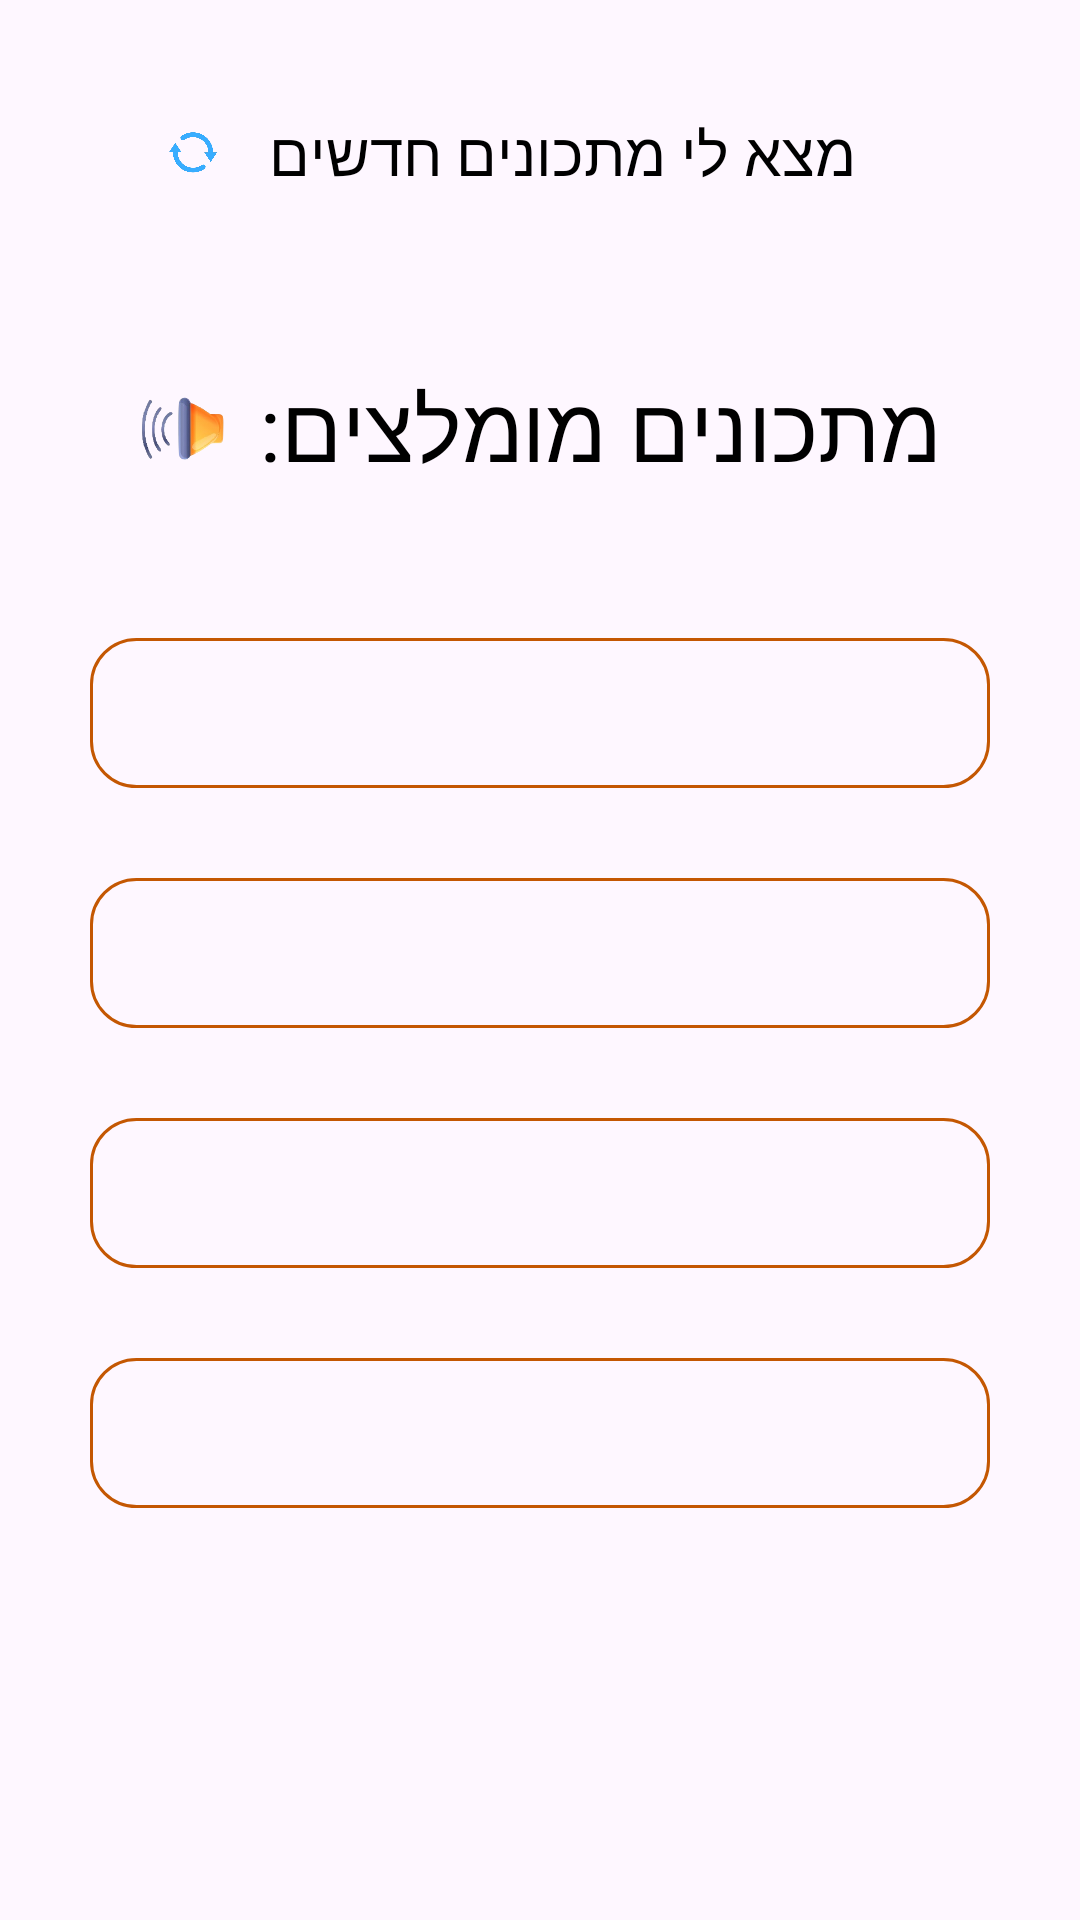

Icon click points for this 1080 x 1920 phone screenshot, format (x,y):
reloadicon: (193,152)
speaker: (183,428)
